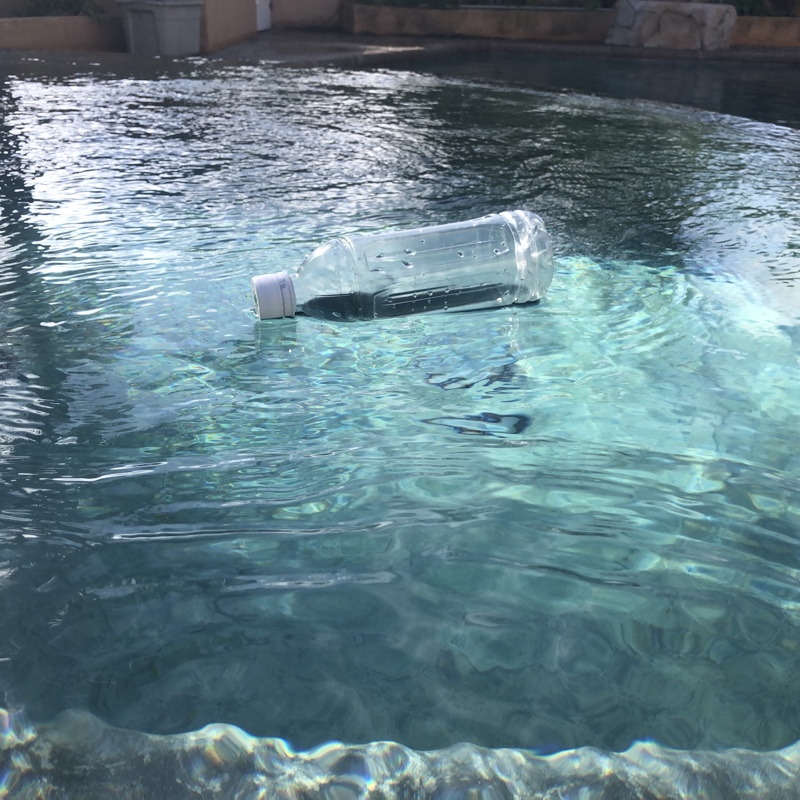Plastic Bottle: (245, 207, 557, 326)
